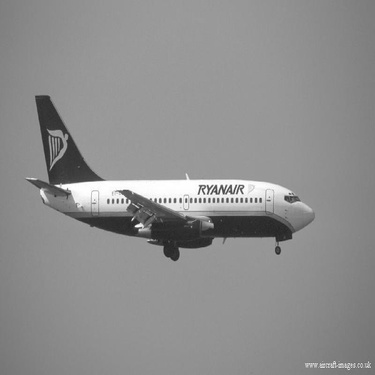airplane: (19, 86, 321, 263)
